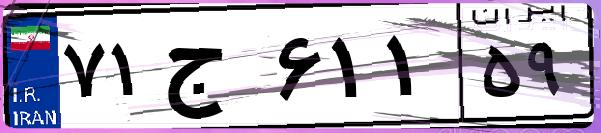1: (385, 28, 445, 110), (330, 28, 385, 110), (110, 28, 158, 98)
5: (475, 38, 525, 113)
6: (270, 28, 330, 110)
7: (57, 26, 110, 100)
9: (525, 38, 570, 115)
ج: (158, 20, 270, 120)
